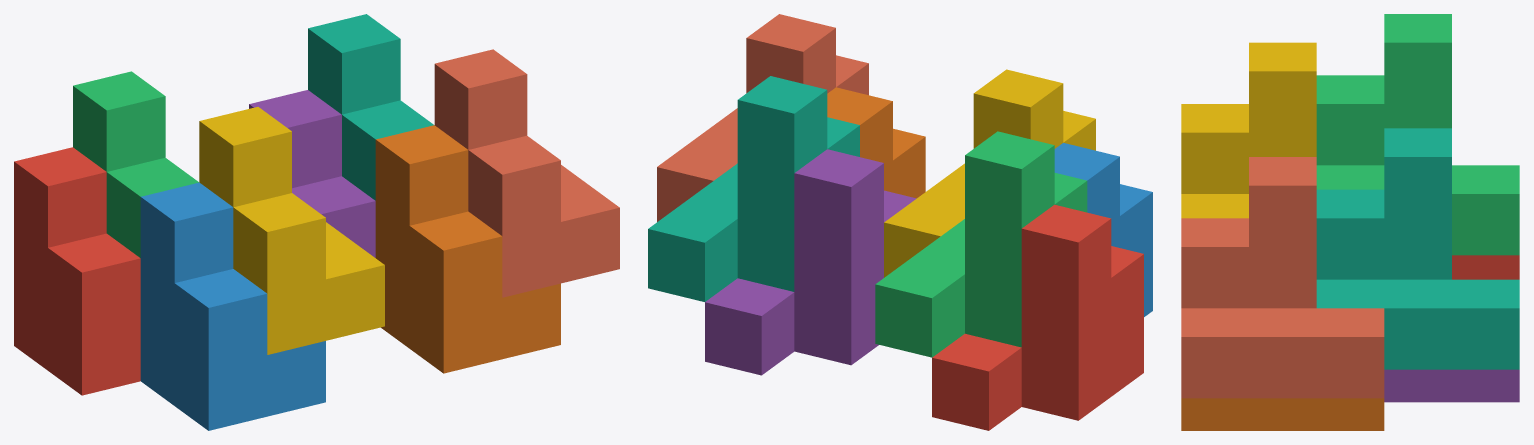
Rendered from tiling.obj.
3 renders of one model, left to right at view 1: azimuth 30°, elevation 25°; view 2: azimuth 150°, elevation 25°; view 3: azimuth 270°, elevation 25°, orthographic. The views are drawn at different scales.
Parts seen in each view (by area): view 1: copy_1_domain_2, copy_1_domain_6, copy_1_domain_1, copy_1_domain_8, copy_1_domain_4, copy_1_domain_3, copy_1_domain_7, copy_1_domain_5; view 2: copy_1_domain_1, copy_1_domain_5, copy_1_domain_7, copy_1_domain_3, copy_1_domain_4, copy_1_domain_8, copy_1_domain_2, copy_1_domain_6; view 3: copy_1_domain_8, copy_1_domain_7, copy_1_domain_3, copy_1_domain_4, copy_1_domain_6, copy_1_domain_5, copy_1_domain_1.
Boxes of the visible parts, bbox=[...] form: copy_1_domain_2: bbox=[140, 182, 325, 430]; copy_1_domain_6: bbox=[375, 125, 560, 373]; copy_1_domain_1: bbox=[14, 147, 140, 395]; copy_1_domain_8: bbox=[434, 49, 619, 297]; copy_1_domain_4: bbox=[199, 107, 384, 354]; copy_1_domain_3: bbox=[73, 71, 198, 257]; copy_1_domain_7: bbox=[308, 14, 434, 200]; copy_1_domain_5: bbox=[249, 90, 375, 257]; copy_1_domain_1: bbox=[932, 204, 1143, 430]; copy_1_domain_5: bbox=[705, 149, 916, 375]; copy_1_domain_7: bbox=[648, 76, 859, 301]; copy_1_domain_3: bbox=[875, 131, 1087, 357]; copy_1_domain_4: bbox=[884, 69, 1095, 277]; copy_1_domain_8: bbox=[657, 14, 868, 221]; copy_1_domain_2: bbox=[1054, 143, 1152, 316]; copy_1_domain_6: bbox=[827, 87, 925, 198]; copy_1_domain_8: bbox=[1181, 157, 1384, 398]; copy_1_domain_7: bbox=[1316, 128, 1519, 369]; copy_1_domain_3: bbox=[1316, 14, 1519, 255]; copy_1_domain_4: bbox=[1181, 42, 1316, 218]; copy_1_domain_6: bbox=[1181, 398, 1384, 430]; copy_1_domain_5: bbox=[1384, 369, 1519, 402]; copy_1_domain_1: bbox=[1452, 255, 1519, 279].
Bounding box in the file's own units: 8 × 4 × 5.
